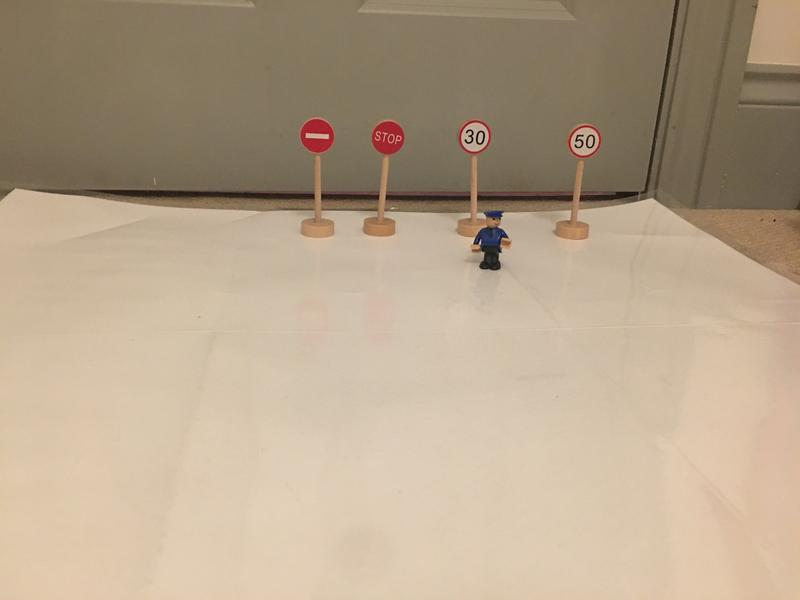Traffic_Sign_30: (459, 121, 490, 151)
Traffic_Sign_50: (570, 126, 600, 156)
Traffic_Sign_No_Entry: (301, 118, 335, 153)
Traffic_Sign_Stop: (373, 120, 404, 155)
person: (469, 211, 514, 273)
